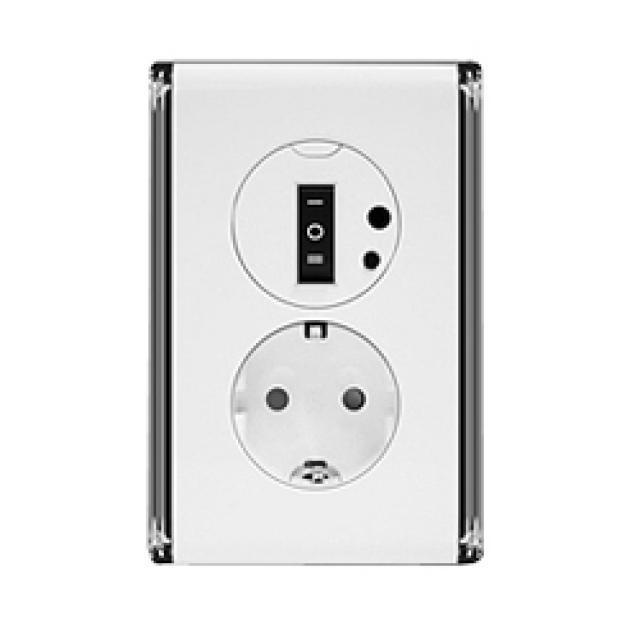typeb: (138, 41, 492, 602)
